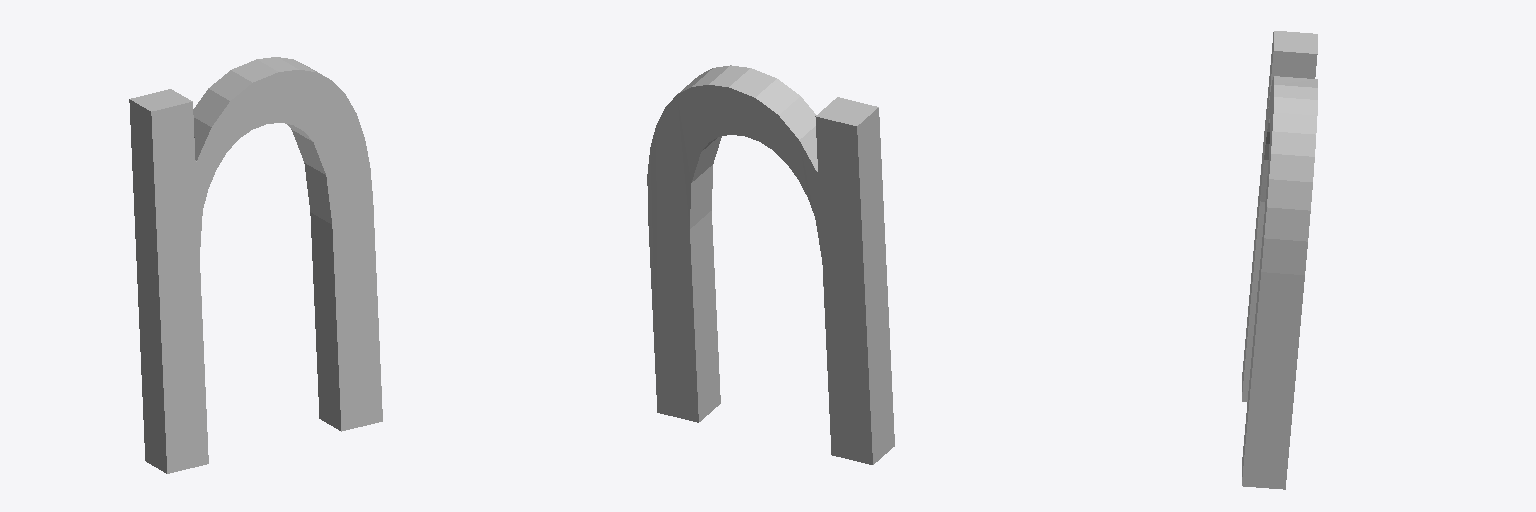
Rendered from original-258.obj.
3 renders of one model, left to right at view 1: azimuth 30°, elevation 25°; view 2: azimuth 150°, elevation 25°; view 3: azimuth 270°, elevation 25°, orthographic.
Visible parts, largest first — view 1: #ID1485; view 2: #ID1485; view 3: #ID1485.
Boxes of the visible parts, x1=… form: #ID1485: x1=129, y1=57, x2=382, y2=473; #ID1485: x1=647, y1=65, x2=894, y2=464; #ID1485: x1=1242, y1=31, x2=1317, y2=489.
Size of the model in its own units: 0.0045 by 0.0073 by 0.0014.